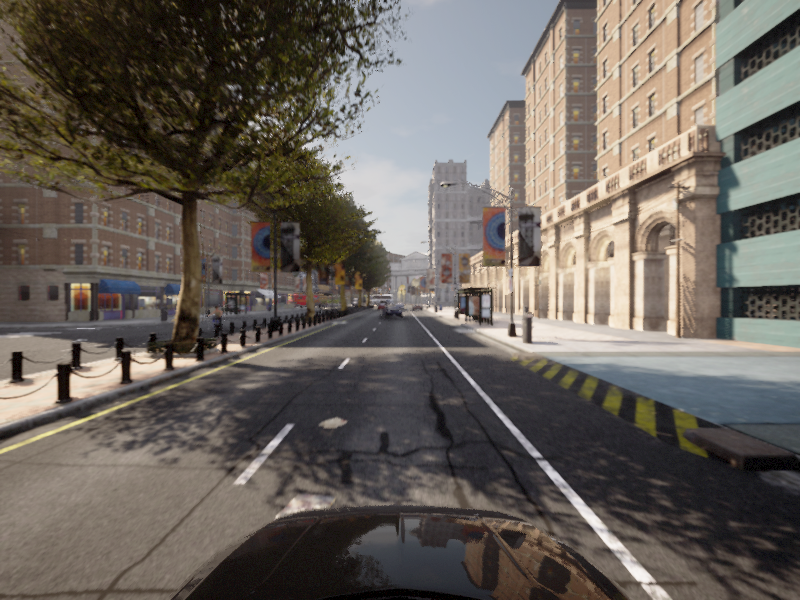vehicle: (1, 1, 799, 599), (166, 305, 197, 327), (203, 305, 228, 332), (381, 305, 403, 318)
